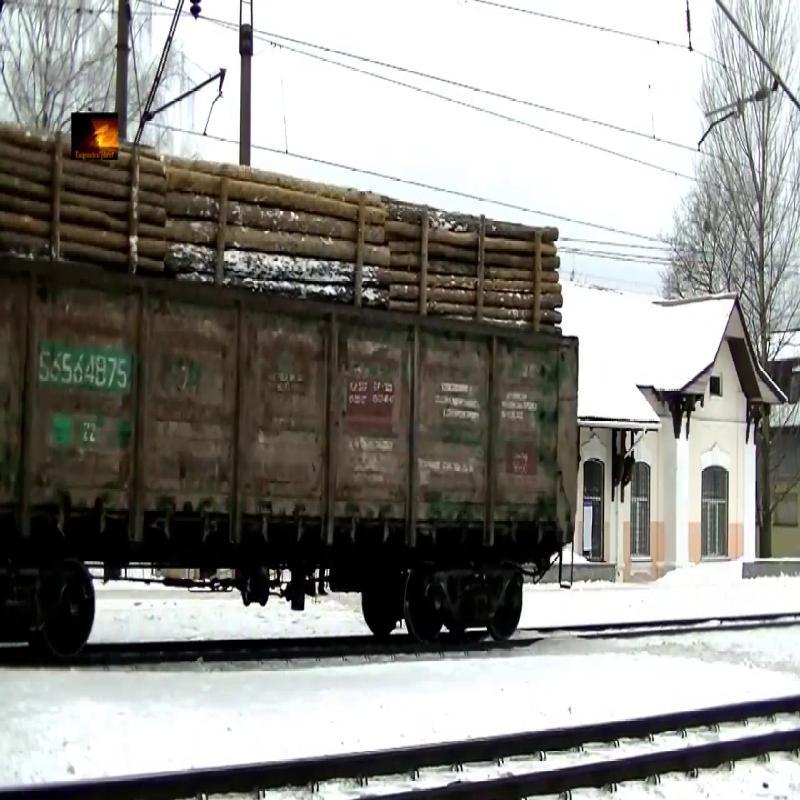train: (1, 143, 580, 633)
